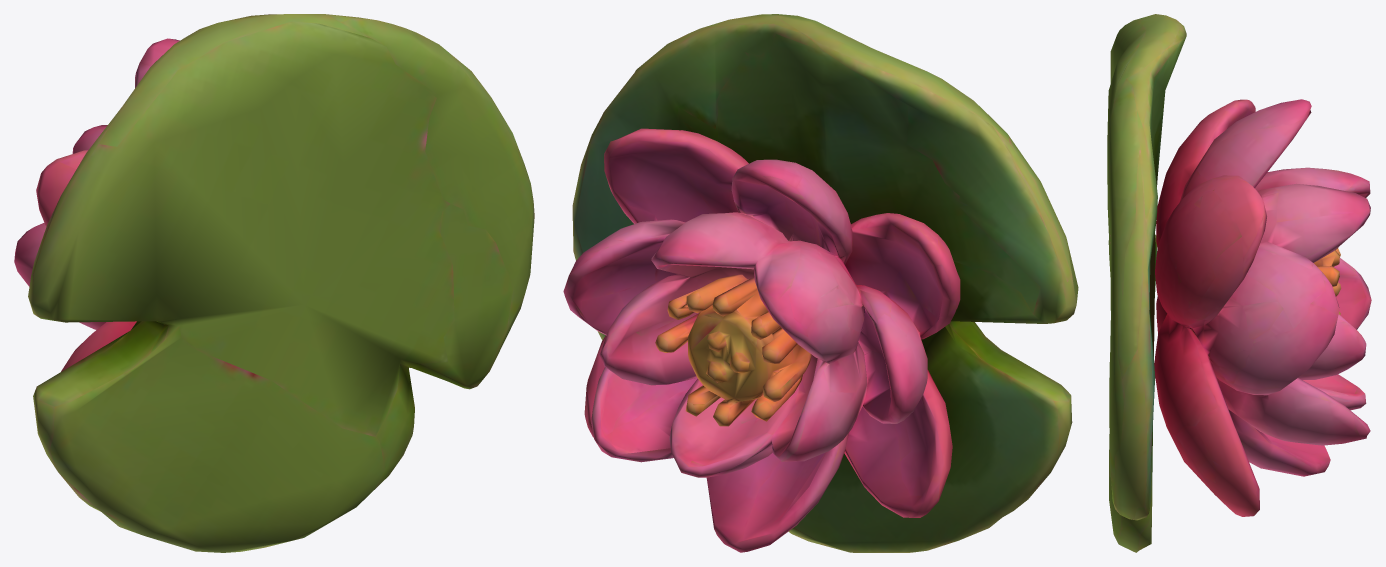
3 views of the same model, side by side, from view 1: azimuth 30°, elevation 25°; view 2: azimuth 150°, elevation 25°; view 3: azimuth 270°, elevation 25° (orthographic). The views are drawn at different scales.
Parts seen in each view (by area): view 1: material; view 2: material; view 3: material.
Part boxes in pixels (<box>): material: <box>14,14,534,552</box>; material: <box>563,14,1078,552</box>; material: <box>1107,14,1371,552</box>.
Bounding box in the file's own units: 0.9996 × 1 × 0.4821.
1 material, 1 textured.
